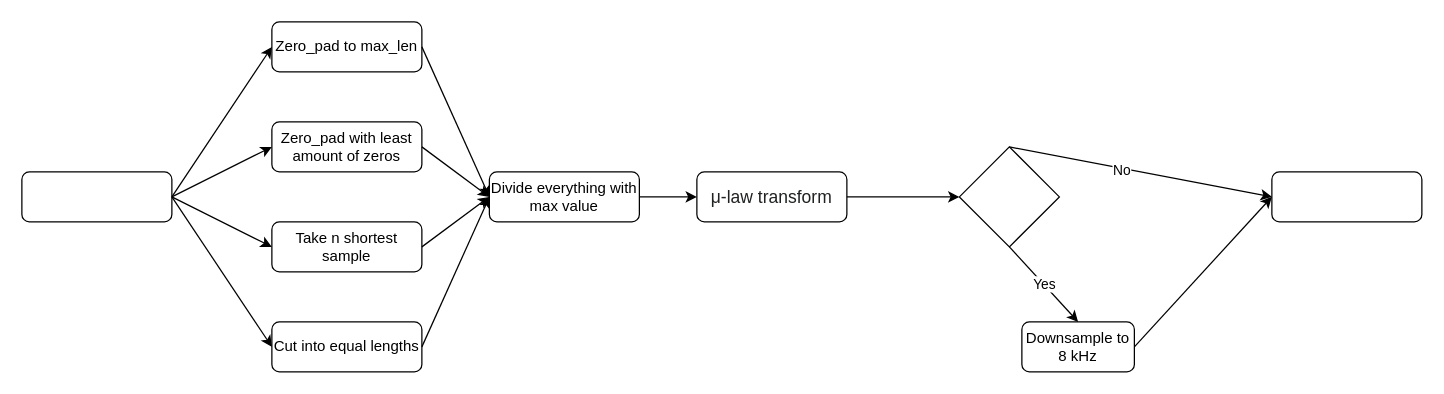
Image size: 1444x394. Some labels were removed from this diagram. The centre of each missing label's shape, as x and y in pixels:
"DATA" goes at point 96,196.
"Is training slow?" goes at point 1008,196.
"WAVENET MODEL" goes at point 1346,196.
